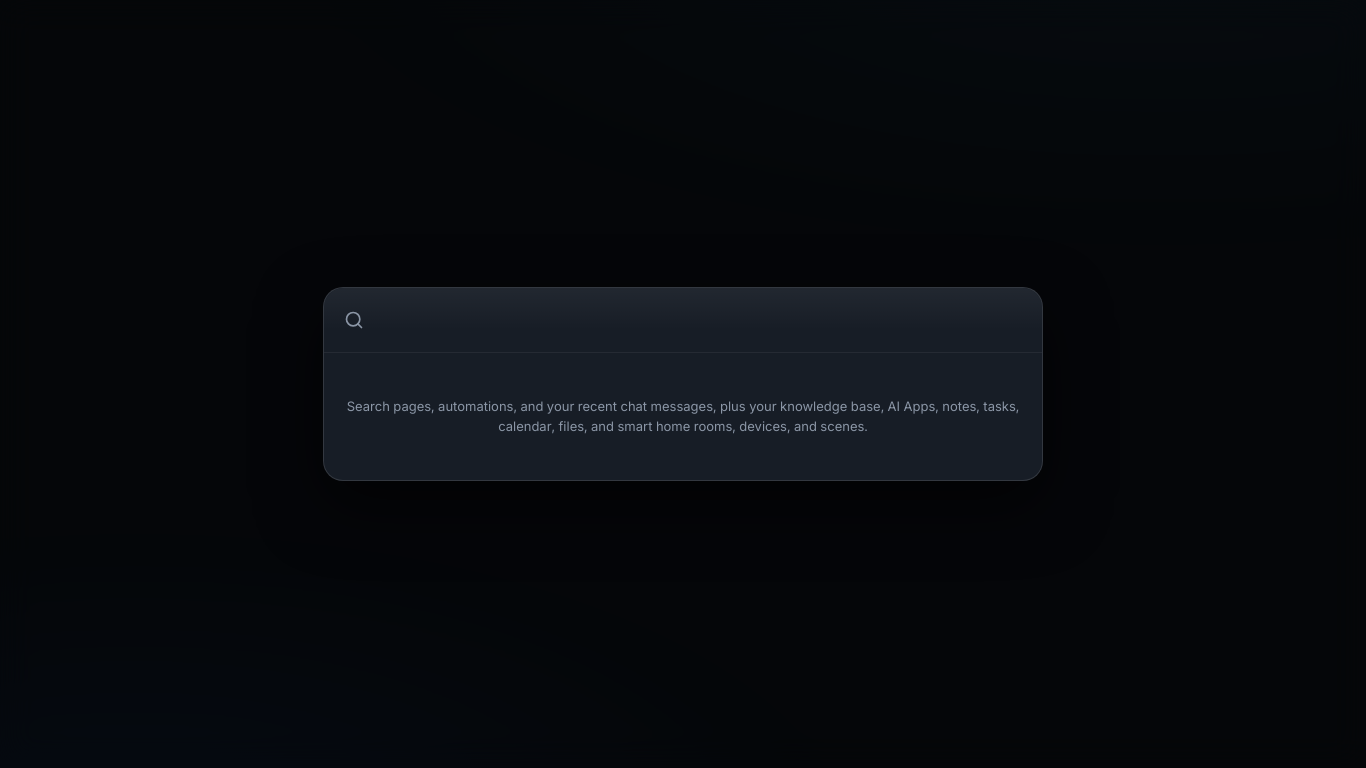
Scenario: UniversalSearch › shows a loading state while a query is being searched
The width and height of the screenshot is (1366, 768).
Type "brief" into the dropdown named "search" at (699, 320), box [376, 288, 1022, 352]
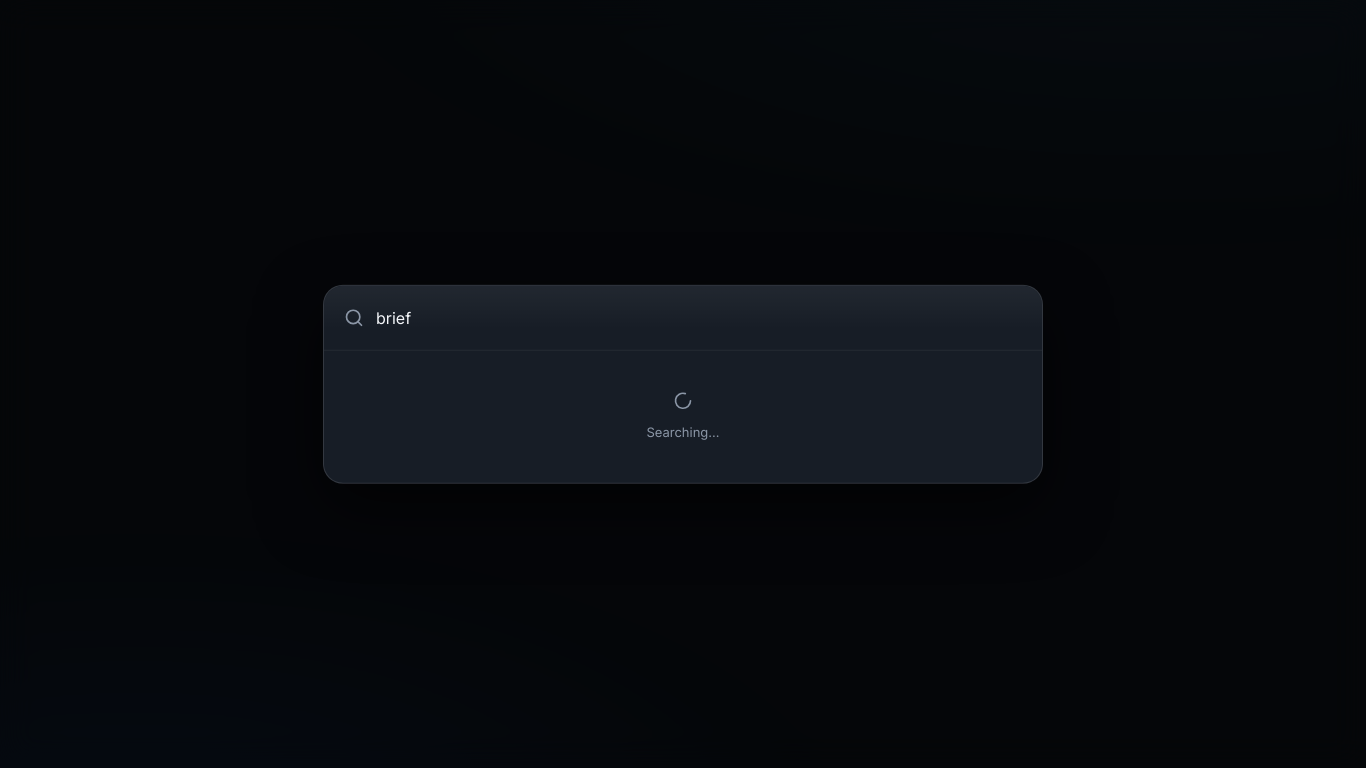
Now the text "Searching…" is shown, box [646, 423, 720, 442]
